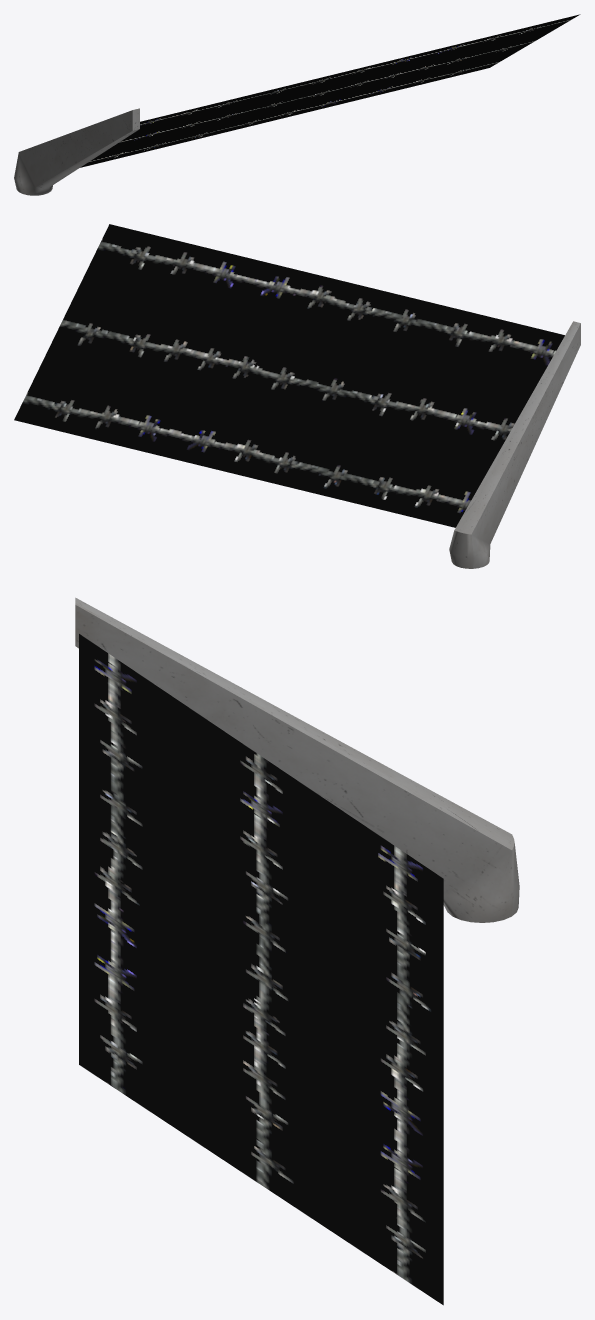
Rendered from chain_barbwire_straight_short.fbx.
The picture shows the model from 3 angles, top to bottom: view 1: azimuth 30°, elevation 25°; view 2: azimuth 150°, elevation 25°; view 3: azimuth 270°, elevation 25°; orthographic projection. The views are drawn at different scales.
Parts seen in each view (by area): view 1: chain_barbwire_straight_short; view 2: chain_barbwire_straight_short; view 3: chain_barbwire_straight_short.
Boxes of the visible parts, <box> form: chain_barbwire_straight_short: <box>14,14,580,195</box>; chain_barbwire_straight_short: <box>14,224,580,568</box>; chain_barbwire_straight_short: <box>75,597,519,1305</box>.
Size of the model in its own units: 1.04 by 0.3288 by 0.4317.
2 materials, 2 textured.
